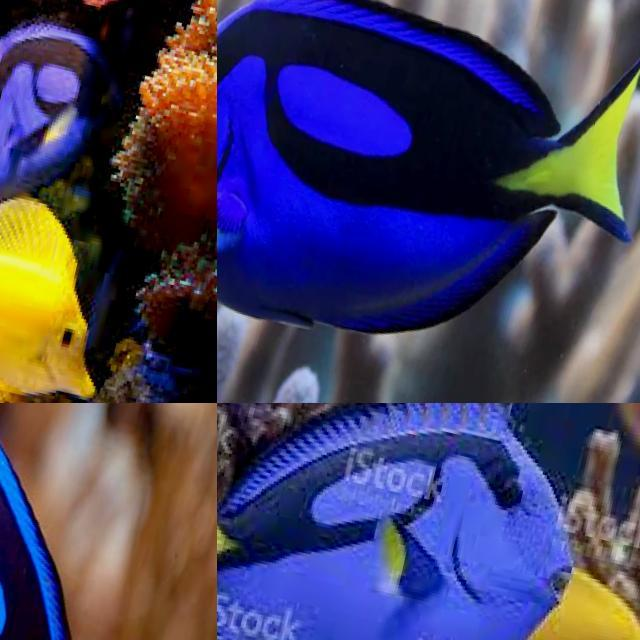BlueTang: (217, 0, 640, 403), (217, 403, 631, 640), (0, 403, 217, 640), (0, 0, 160, 243)
